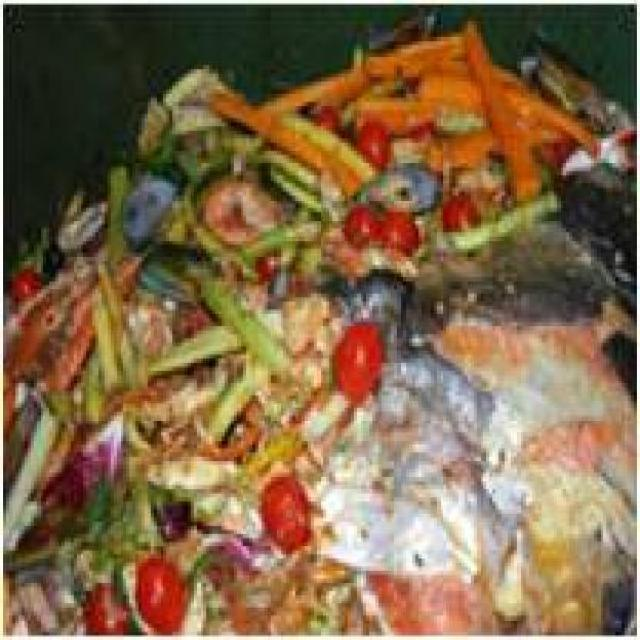garbage: (9, 17, 636, 637)
